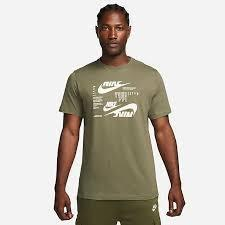Tshirt: (57, 56, 180, 202)
